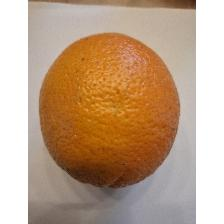Orange: (34, 28, 184, 196)
